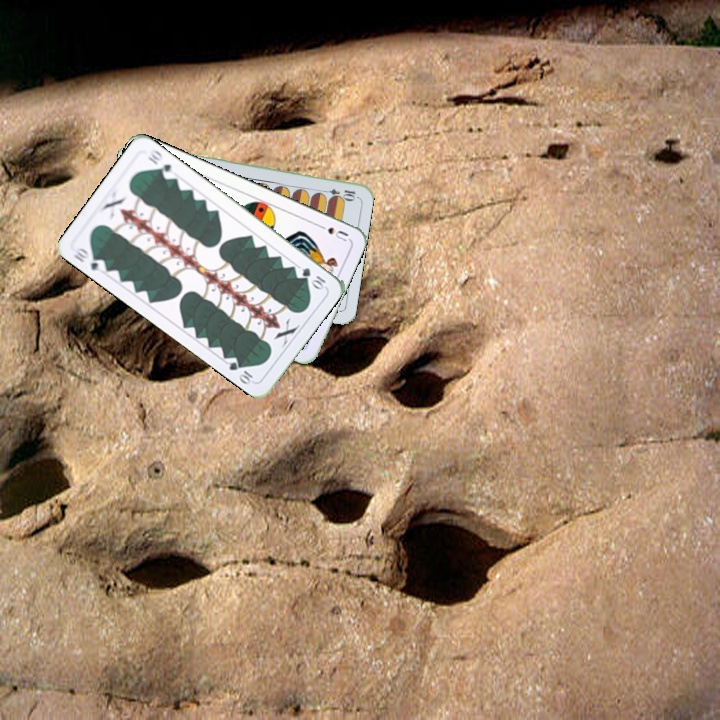E10: (317, 184, 358, 201)
G10: (69, 242, 109, 275), (298, 263, 328, 292)
SU: (313, 220, 351, 244)
